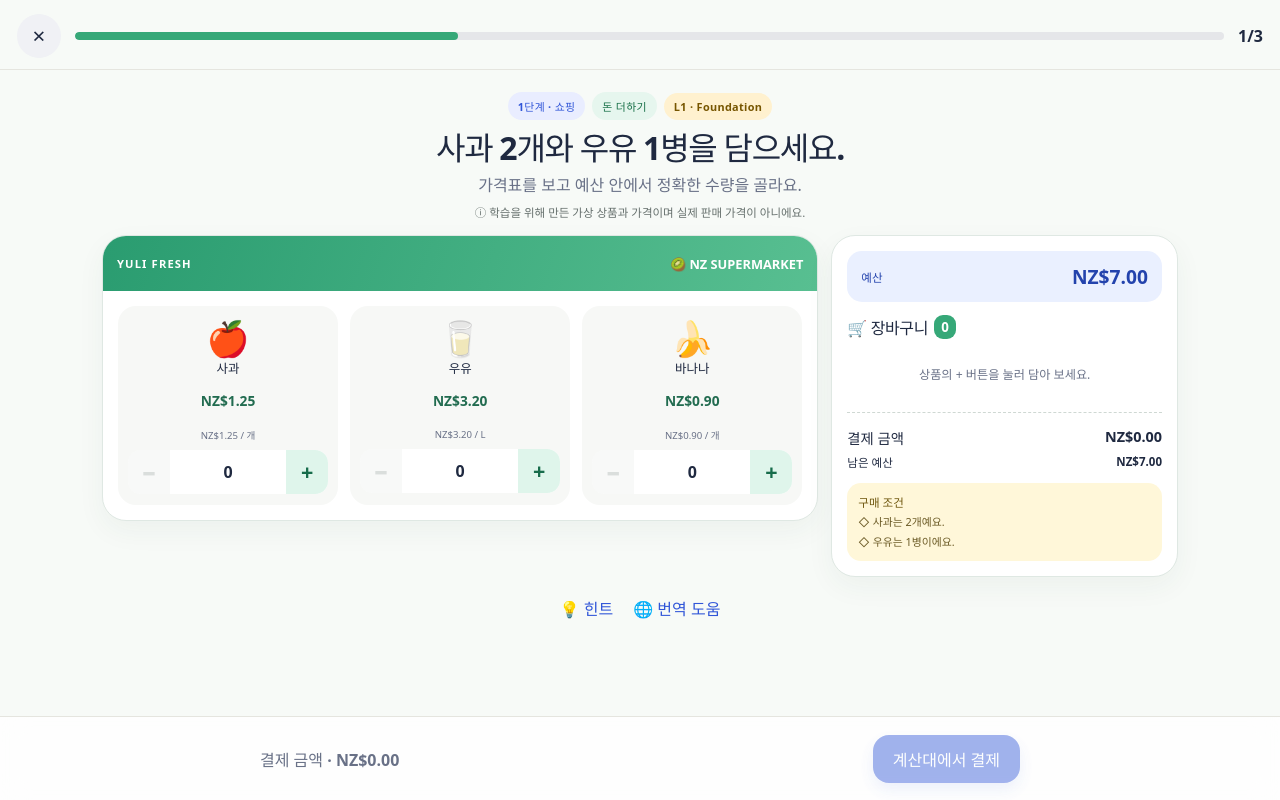
ShoppingMission › explains an over-budget trolley and allows editing before retry
The width and height of the screenshot is (1280, 800).
Click the button named "우유 추가": (539, 471) [518,449,560,493]
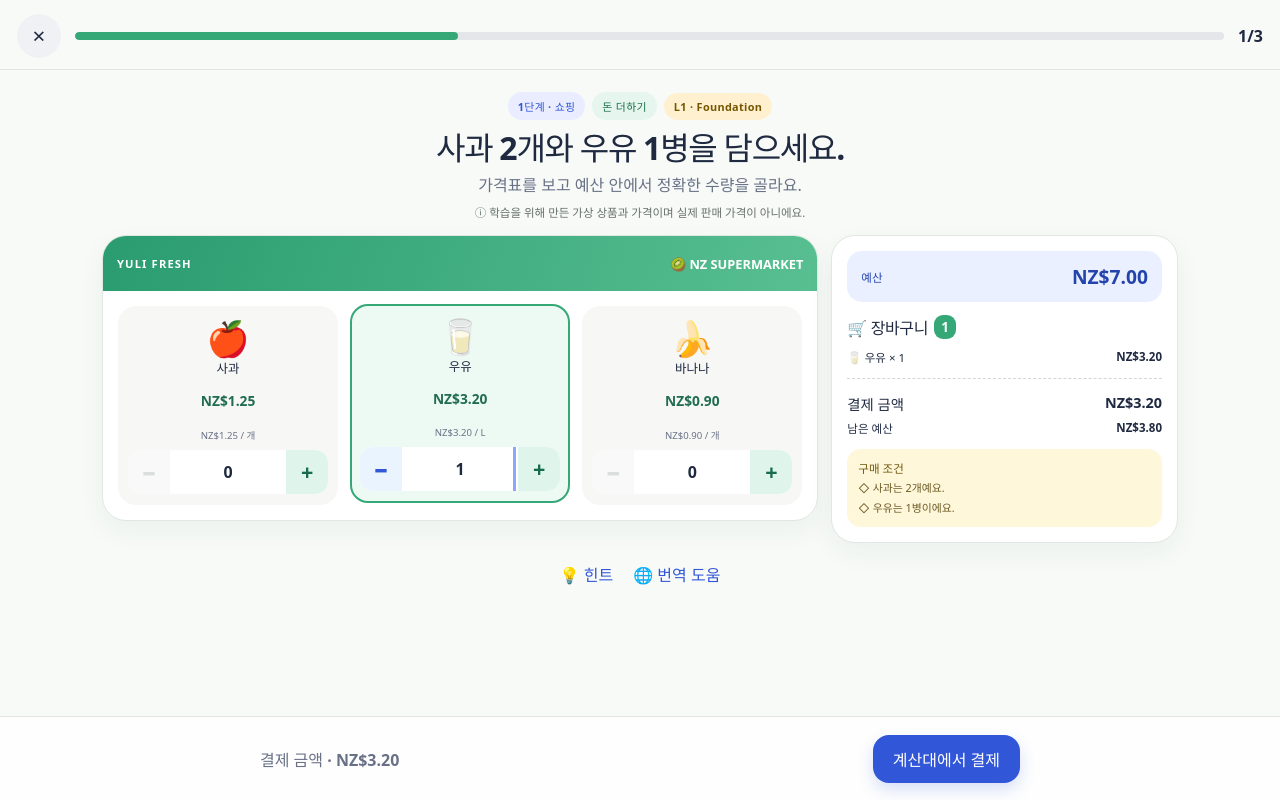
Click the button named "우유 추가": (539, 469) [518,447,560,491]
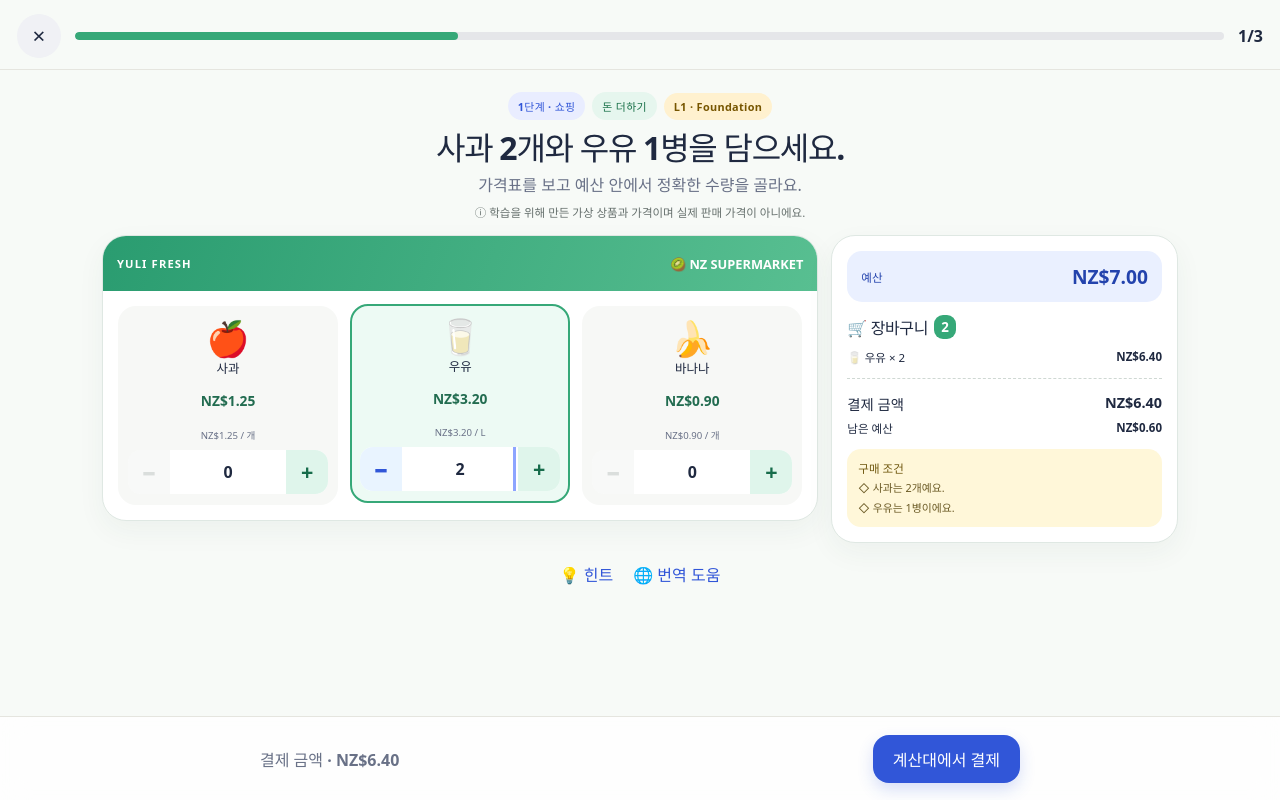
Click the button named "우유 추가": (539, 469) [518,447,560,491]
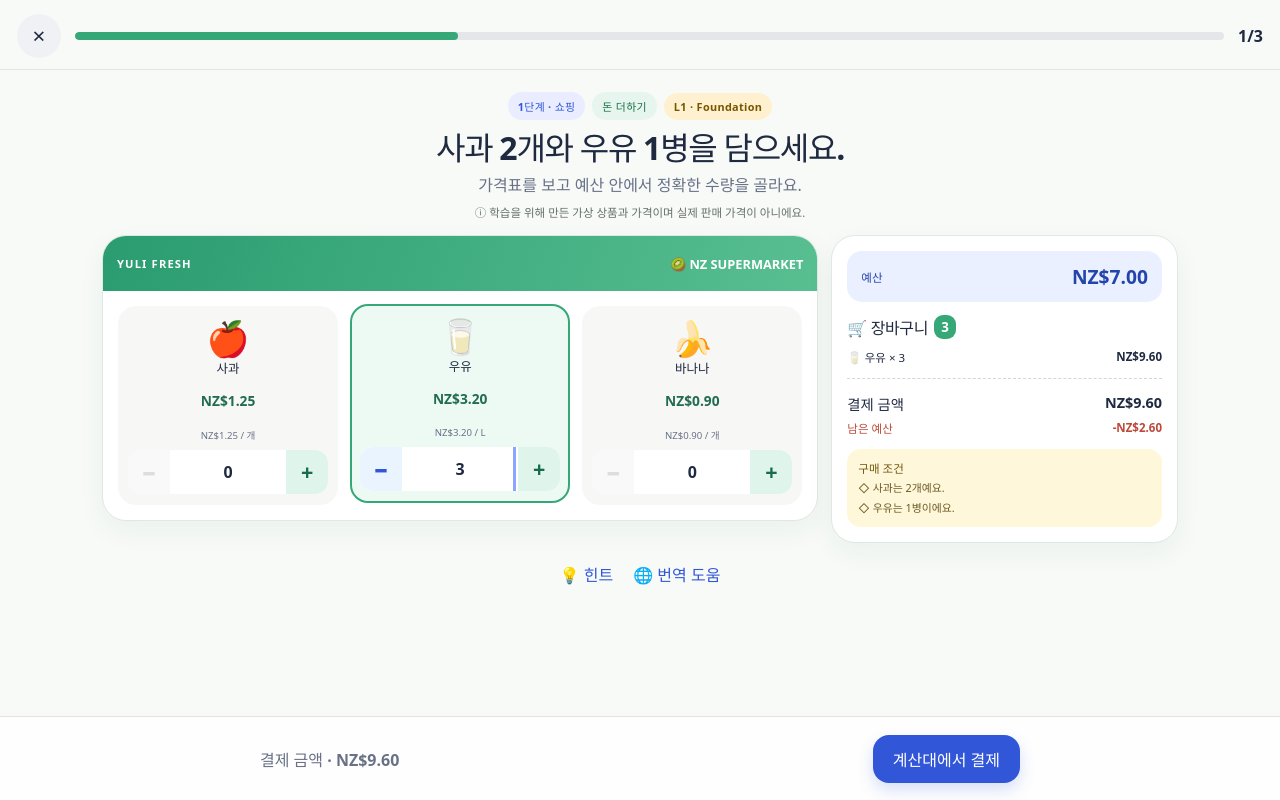
Click the button "계산대에서 결제": (946, 758) [873,734,1020,782]
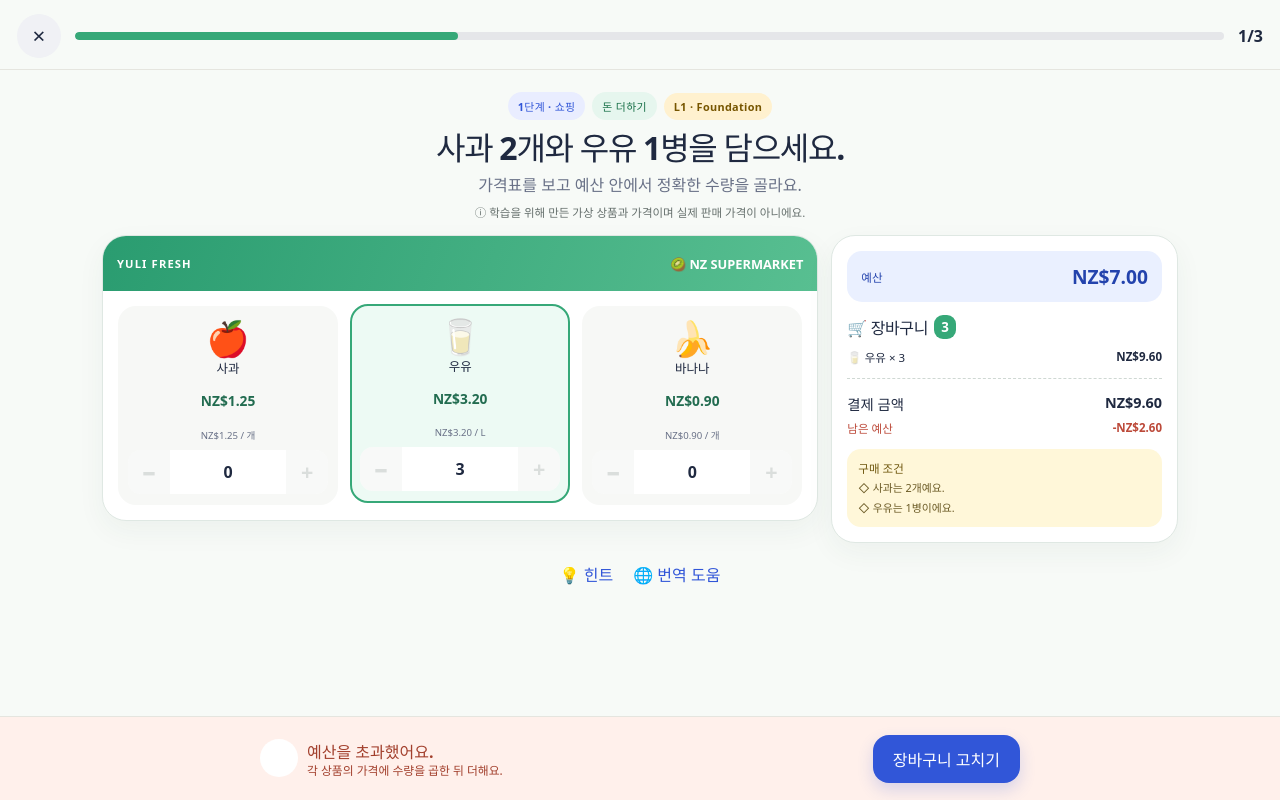
Now the text "예산을 초과했어요." is shown, box [307,741,434,763]
Click the button "장바구니 고치기": (946, 758) [873,734,1020,782]
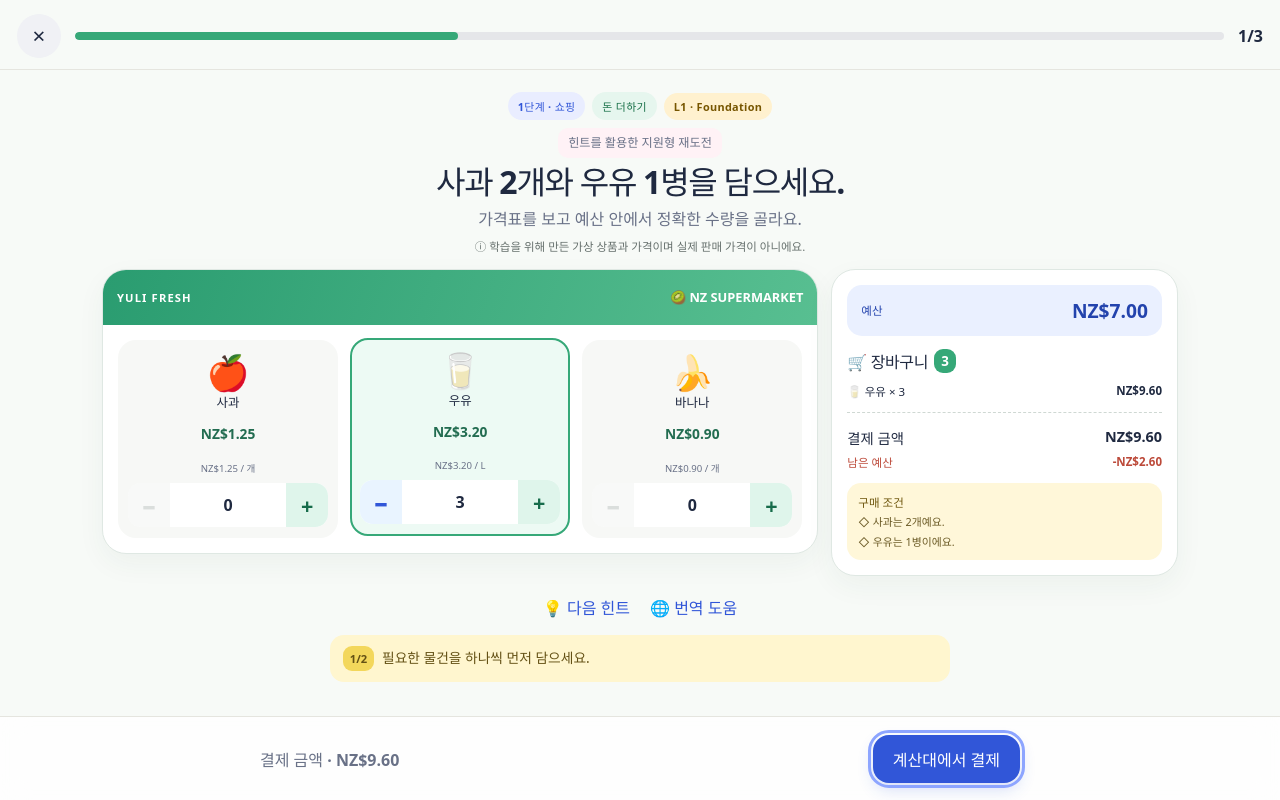
Now the button named "우유 빼기" is enabled, box [360,480,402,524]
